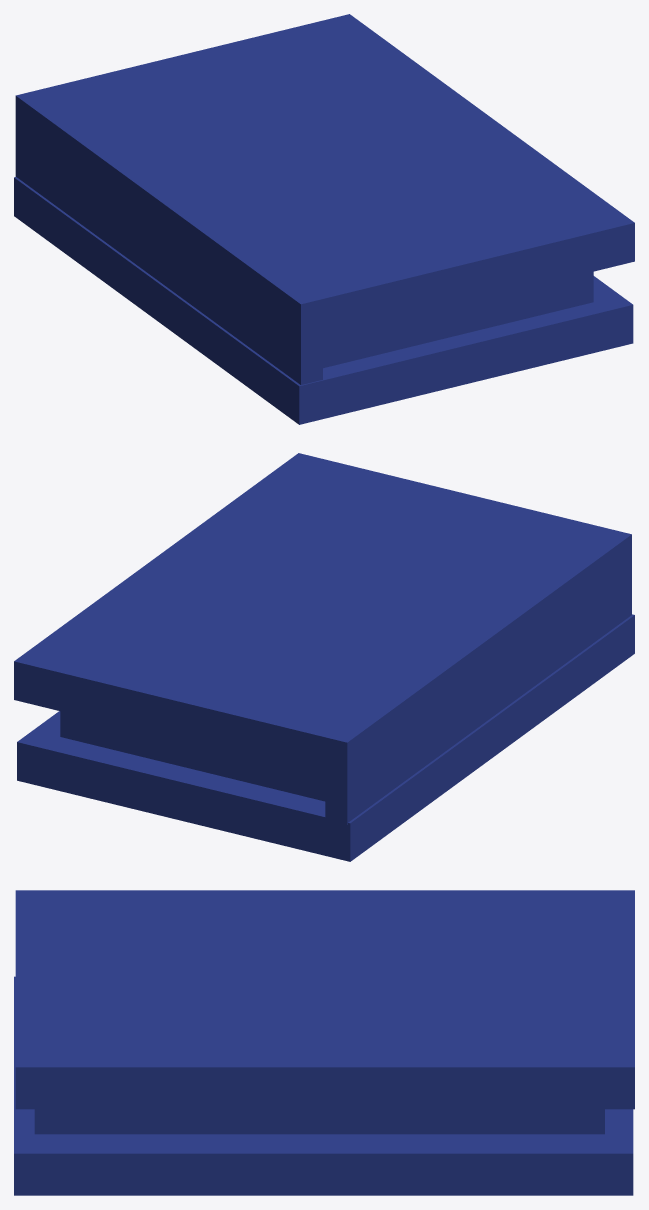
File: book2.glb
The picture shows the model from 3 angles, top to bottom: view 1: azimuth 30°, elevation 25°; view 2: azimuth 150°, elevation 25°; view 3: azimuth 270°, elevation 25°; orthographic projection. The views are drawn at different scales.
Parts seen in each view (by area): view 1: Cube.001, Cube.002; view 2: Cube.001, Cube.002; view 3: Cube.001, Cube.002.
Boxes of the visible parts, x1,y1,x2,y2 form: Cube.001: [14, 14, 634, 424]; Cube.002: [323, 271, 593, 368]; Cube.001: [14, 453, 634, 861]; Cube.002: [60, 711, 325, 801]; Cube.001: [14, 890, 634, 1195]; Cube.002: [34, 1109, 604, 1134].
Size of the model in its own units: 4.29 by 1.46 by 6.32.
